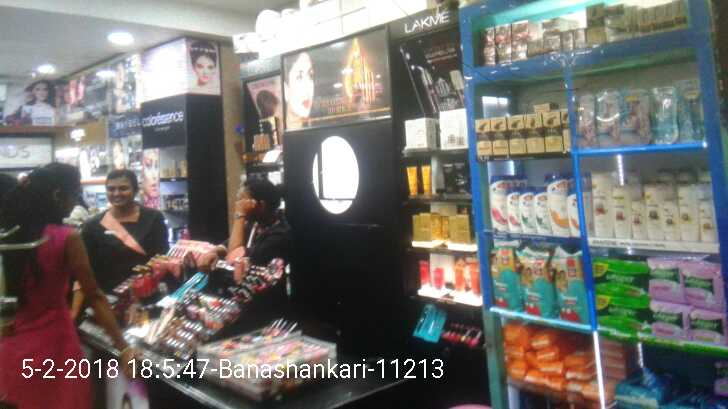venus: (621, 89, 651, 146), (651, 87, 679, 142), (678, 80, 702, 142), (595, 90, 619, 148), (578, 94, 594, 148)
